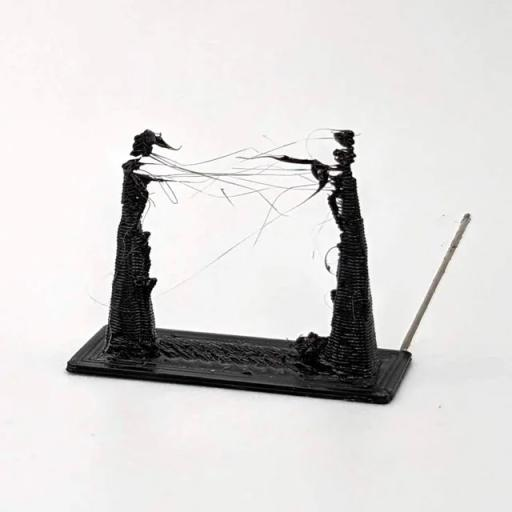stringing: (144, 148, 346, 200)
